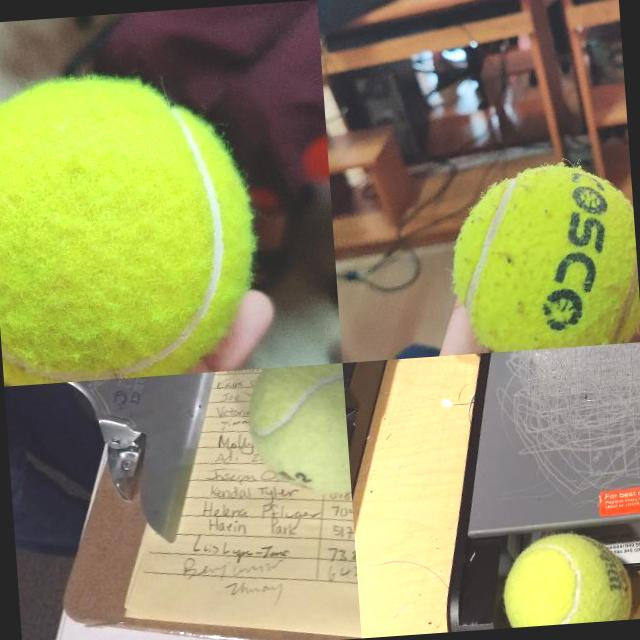Tennis Ball: (0, 67, 260, 385), (445, 160, 640, 353), (242, 362, 350, 502), (498, 527, 636, 627)
